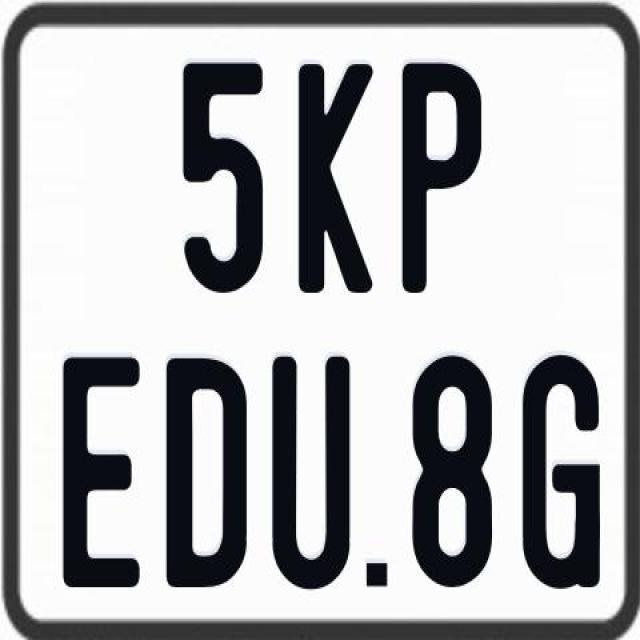5: (181, 59, 264, 291)
8: (410, 352, 492, 589)
D: (166, 357, 255, 596)
E: (62, 355, 140, 595)
G: (521, 354, 603, 590)
K: (298, 59, 382, 296)
P: (402, 62, 490, 296)
U: (272, 352, 358, 586)
